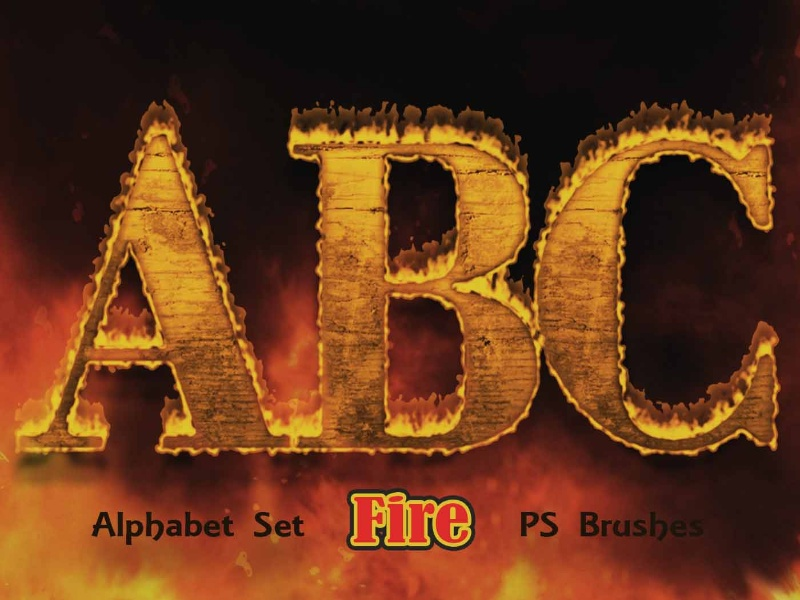letter: (18, 90, 283, 483), (289, 98, 537, 469), (547, 100, 789, 479), (342, 492, 387, 554), (431, 495, 476, 554), (384, 492, 412, 555), (406, 498, 438, 551)
